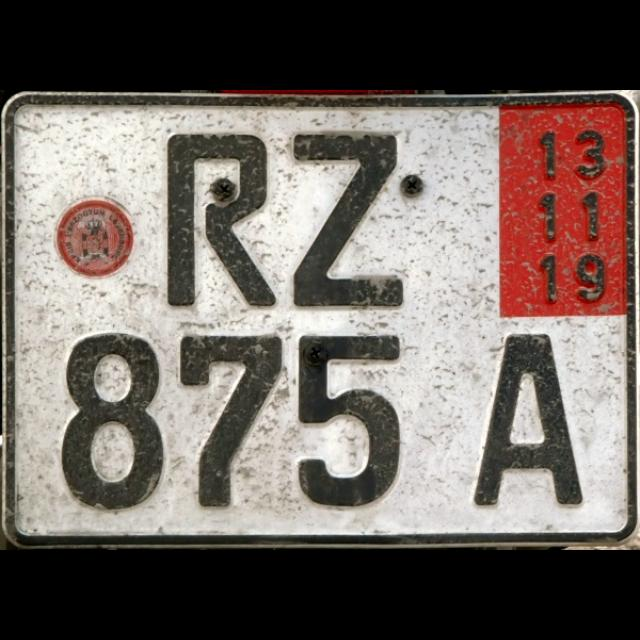d_license_plate: (9, 97, 629, 540)
